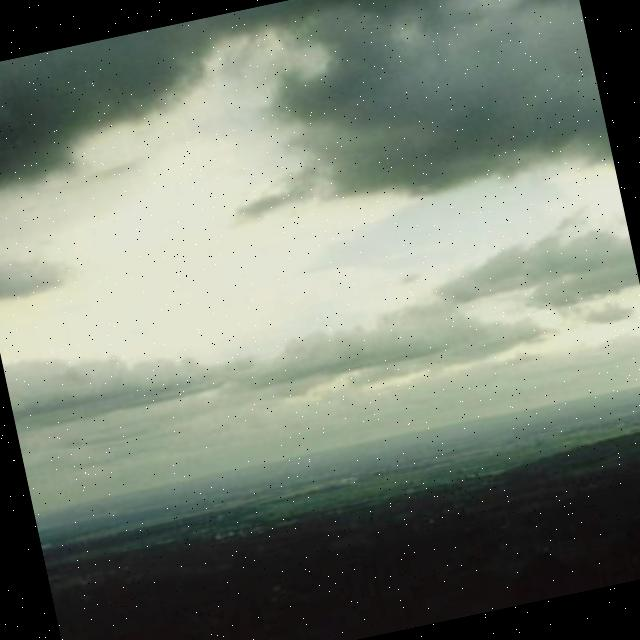Sc: (1, 1, 640, 474)
